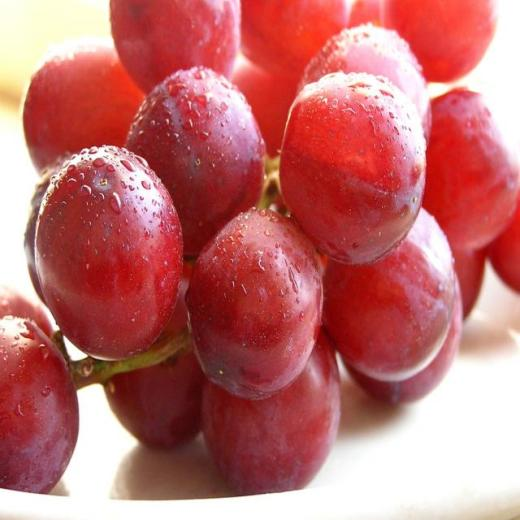Orange: (0, 0, 520, 497)
